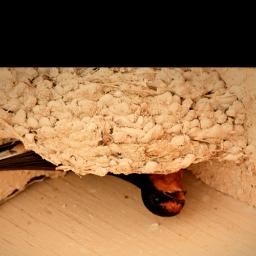Swallow: (0, 132, 189, 219)
